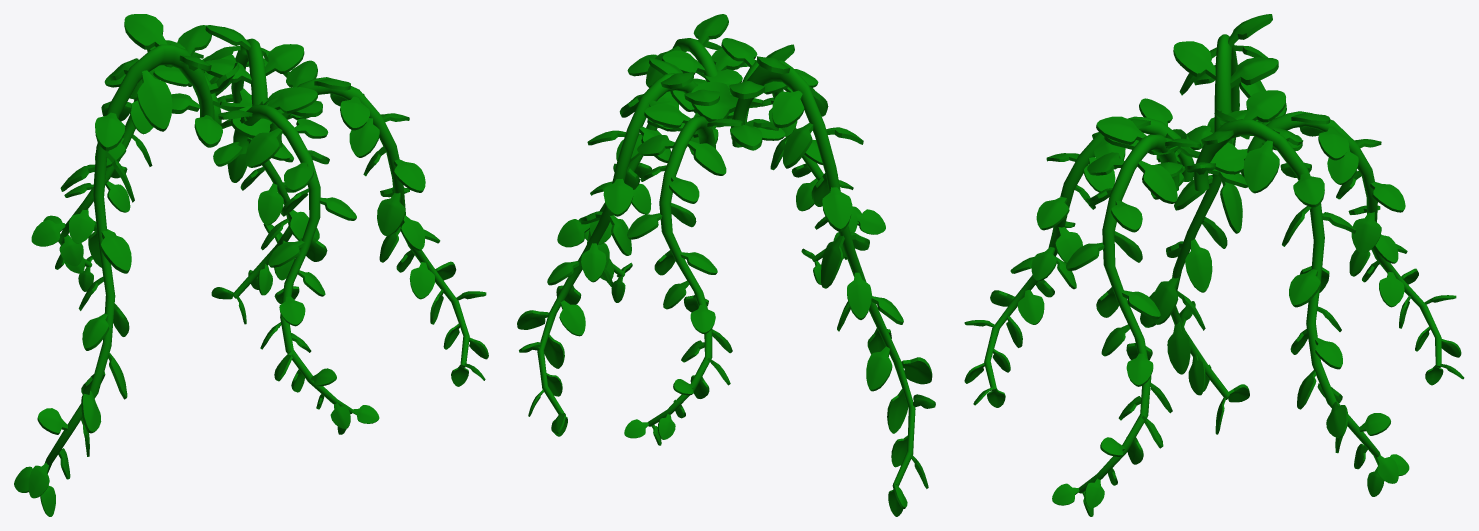
File: Plant3_Leaves.fbx
3 renders of one model, left to right at view 1: azimuth 30°, elevation 25°; view 2: azimuth 150°, elevation 25°; view 3: azimuth 270°, elevation 25°, orthographic. The views are drawn at different scales.
Visible parts, largest first — view 1: Plant3_Leaves; view 2: Plant3_Leaves; view 3: Plant3_Leaves.
Boxes of the visible parts, x1,y1,x2,y2 form: Plant3_Leaves: [14, 14, 488, 516]; Plant3_Leaves: [517, 14, 935, 516]; Plant3_Leaves: [964, 14, 1464, 516].
Size of the model in its own units: 114 by 122 by 117.
